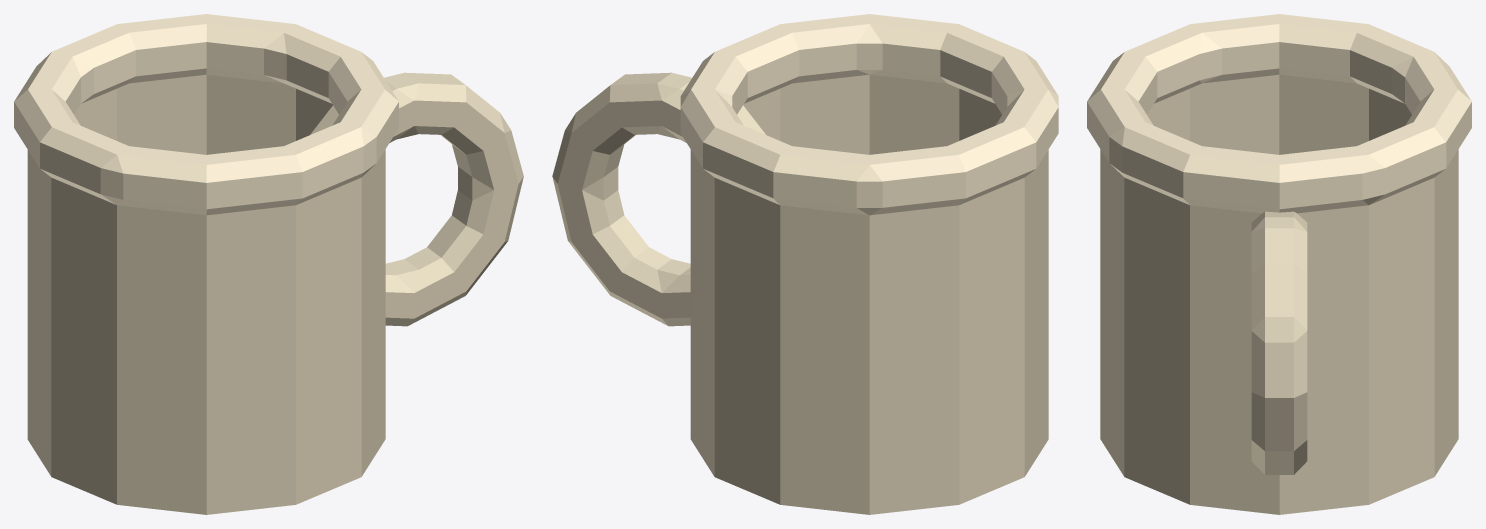
Rendered from ceramic_mug.glb.
The picture shows the model from 3 angles, left to right: view 1: azimuth 30°, elevation 25°; view 2: azimuth 150°, elevation 25°; view 3: azimuth 270°, elevation 25°; orthographic projection.
Visible parts, largest first — view 1: ceramic_mug__body__cream, ceramic_mug__body__white; view 2: ceramic_mug__body__cream, ceramic_mug__body__white; view 3: ceramic_mug__body__cream, ceramic_mug__body__white.
Part boxes in pixels (x1=…): ceramic_mug__body__cream: x1=27, y1=72, x2=523, y2=514; ceramic_mug__body__white: x1=14, y1=14, x2=398, y2=215; ceramic_mug__body__cream: x1=552, y1=72, x2=1048, y2=514; ceramic_mug__body__white: x1=680, y1=14, x2=1058, y2=215; ceramic_mug__body__cream: x1=1100, y1=74, x2=1458, y2=514; ceramic_mug__body__white: x1=1087, y1=14, x2=1471, y2=213.
Bounding box in the file's own units: 0.246 × 0.1725 × 0.172.
